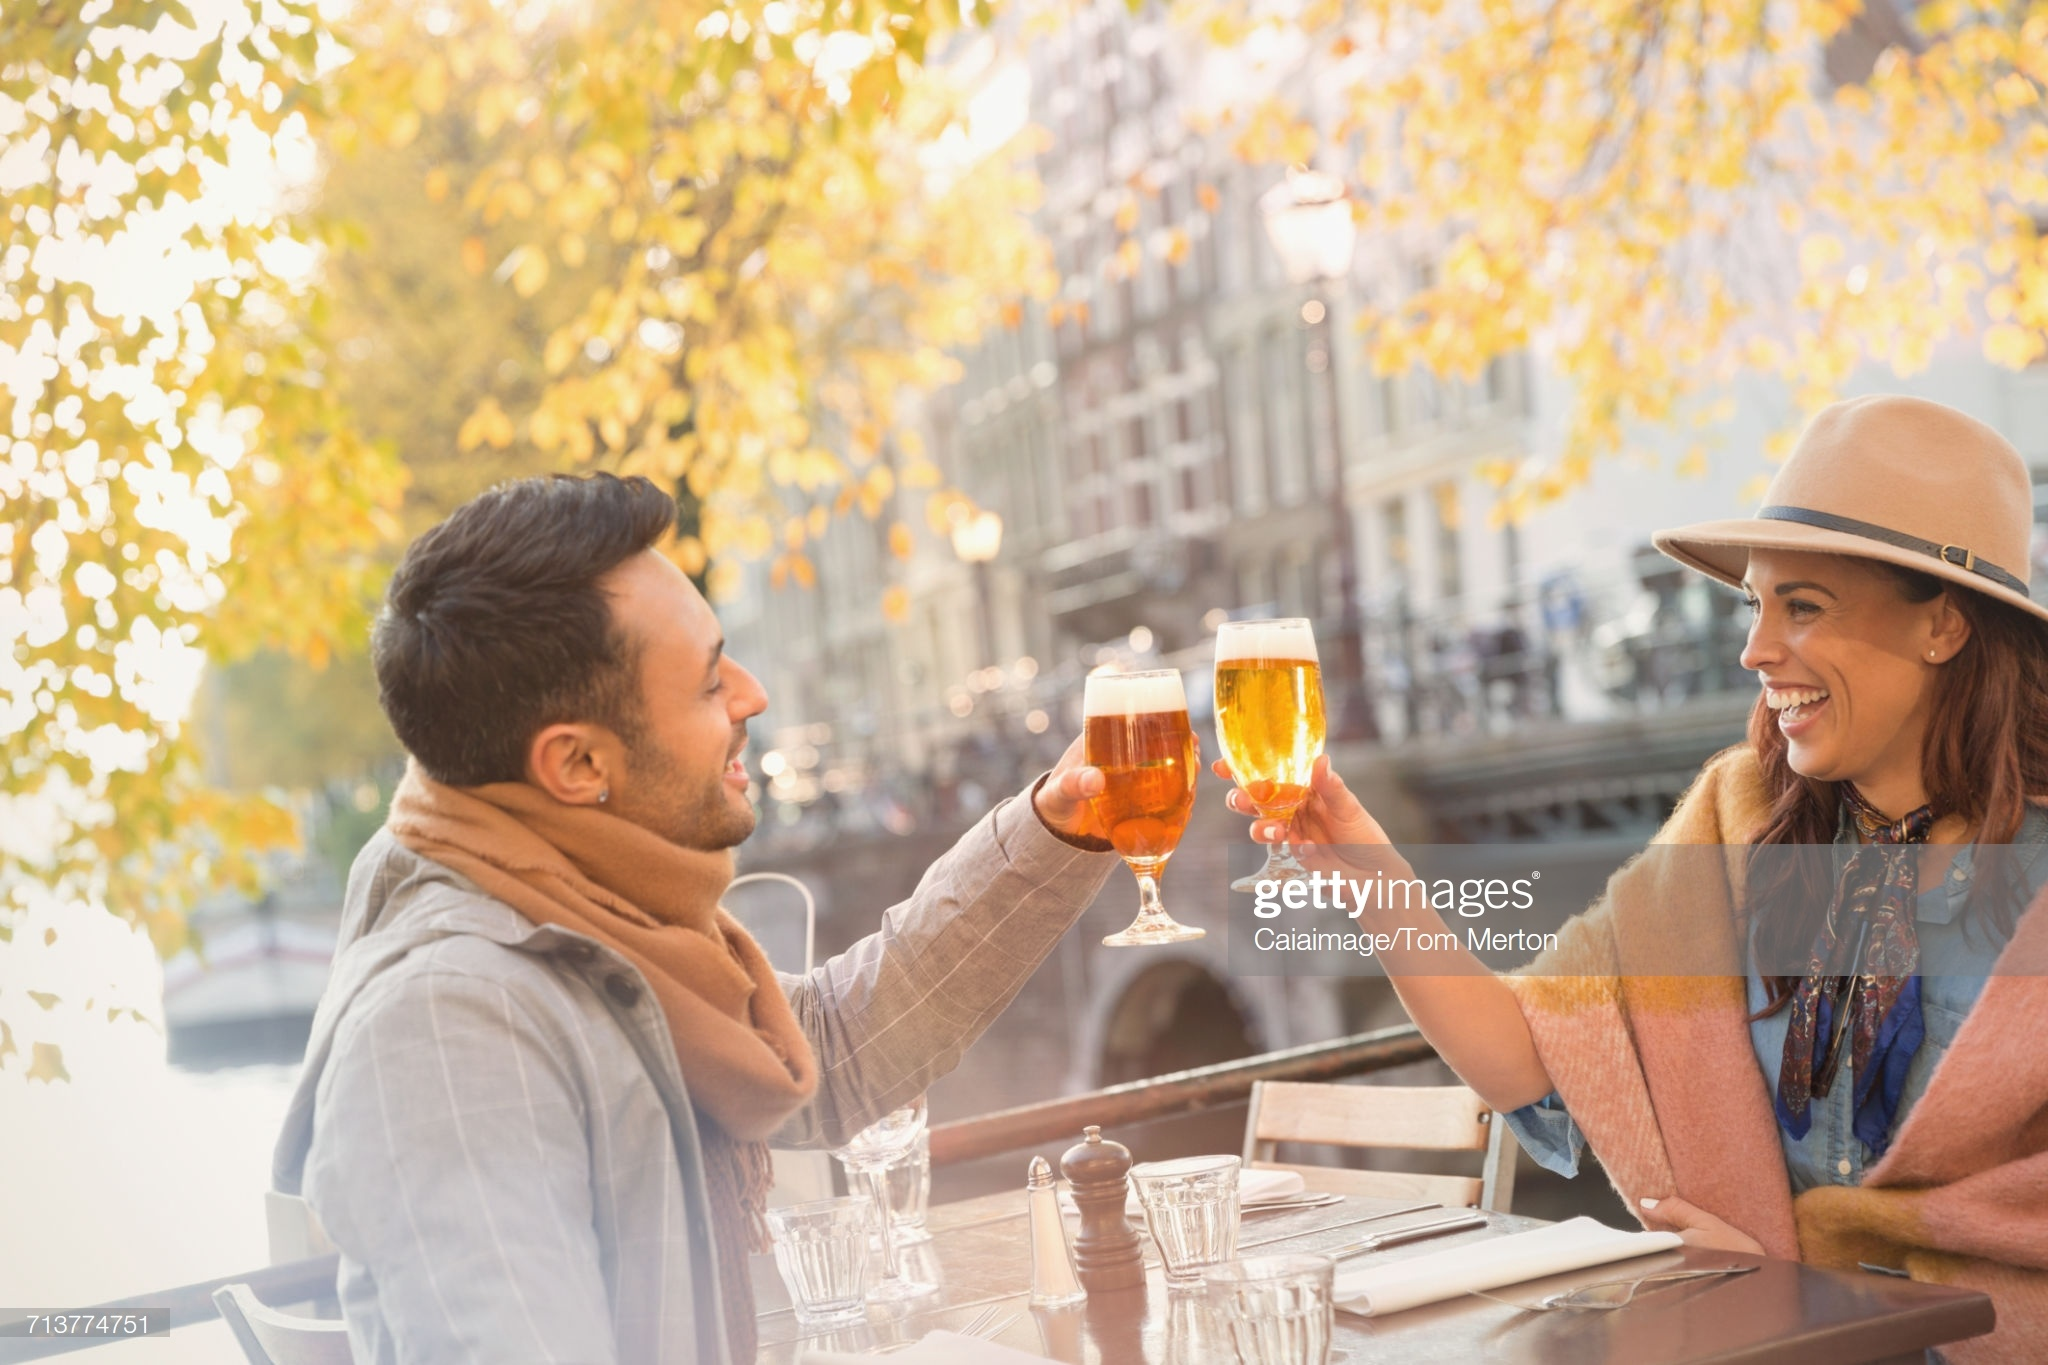glassBeer: (1080, 678, 1192, 945), (1217, 609, 1329, 874)
